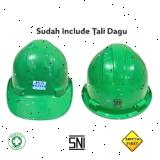Helmet: (7, 38, 73, 121), (82, 44, 153, 120)
